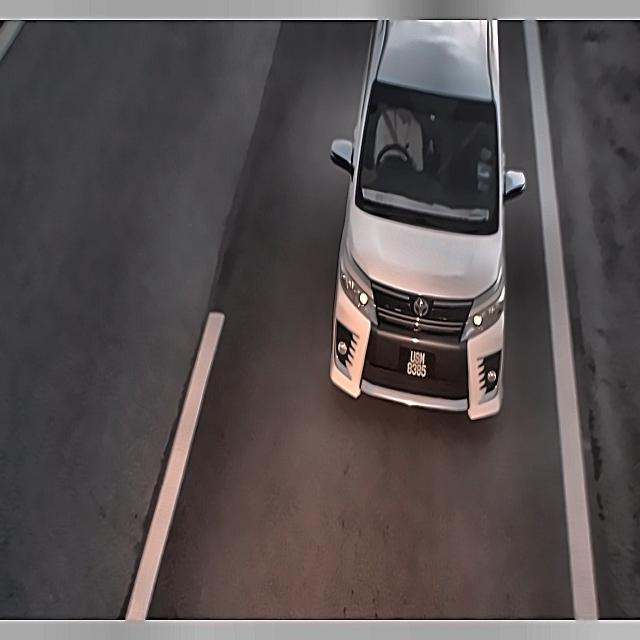car: (399, 342, 433, 389)
